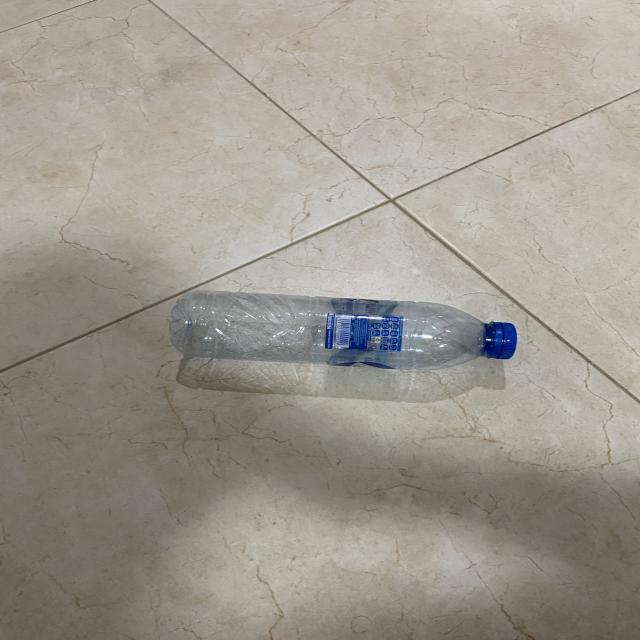bottle: (164, 288, 525, 373)
